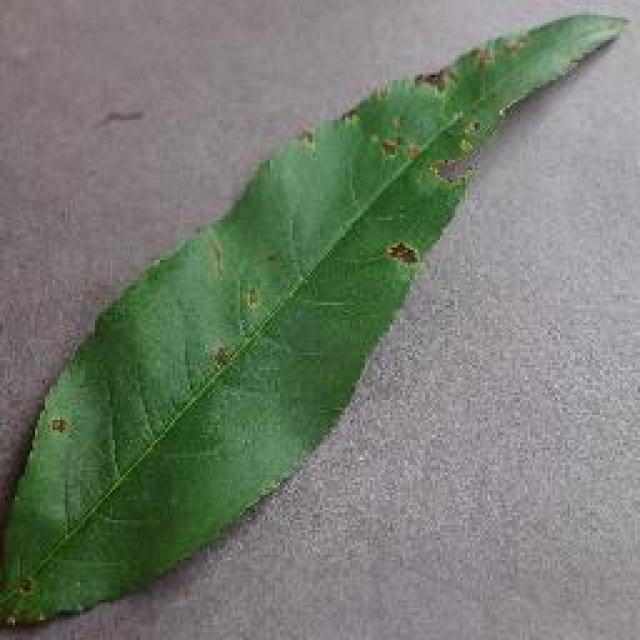Peach_Bacterial_Spot: (287, 58, 515, 317)
